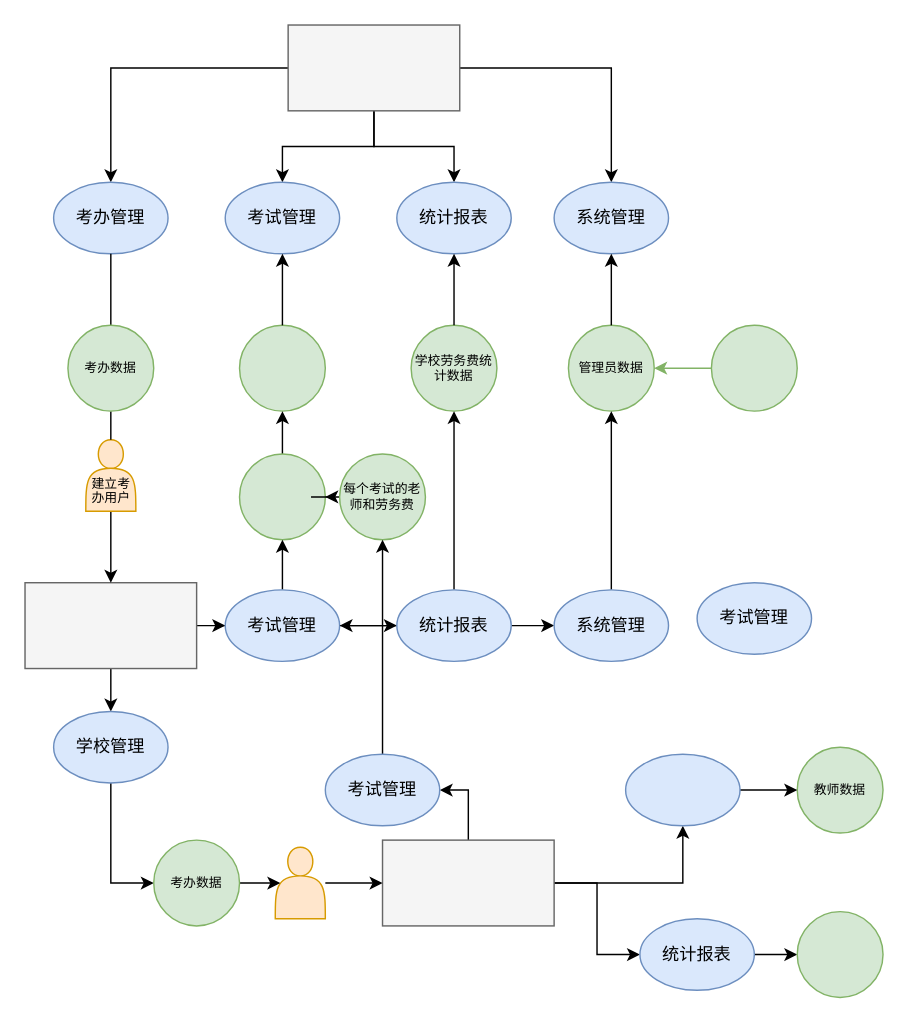
The diagram is 908 pixels wide and 1022 high, and some of its shapes have lost their labels. The centre of each missing label's shape, as x and y in pixels:
"中心端" belongs at (373,67).
"学校端" belongs at (467,882).
"建立学校用户" belongs at (299,882).
"教师劳务费" belongs at (839,953).
"教师管理" belongs at (682,789).
"考办端" belongs at (110,625).
"考试 数据（分配各学校监考费）" belongs at (281,496).
"考试汇总数据" belongs at (281,367).
"角色管理" belongs at (753,367).
